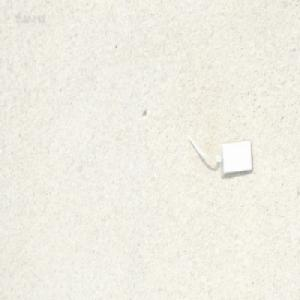LuggageTag: (183, 131, 253, 178)
